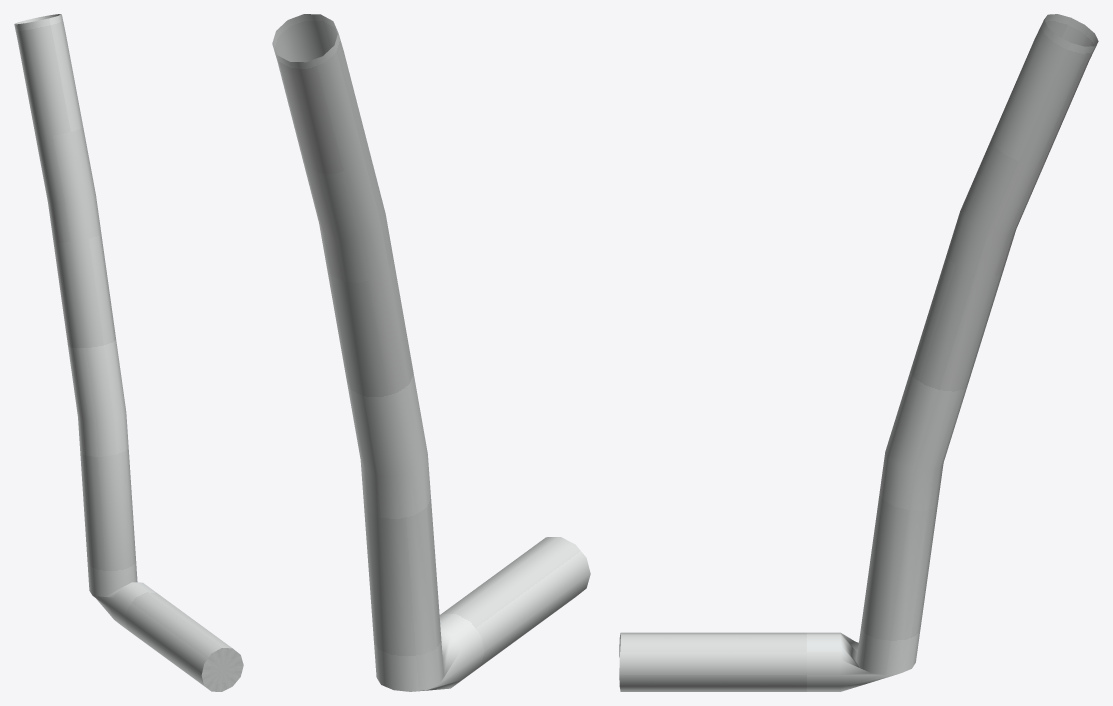
Rendered from luminairearm_laupsweep8ft_c1_thin.obj.
3 views of the same model, side by side, from view 1: azimuth 30°, elevation 25°; view 2: azimuth 150°, elevation 25°; view 3: azimuth 270°, elevation 25° (orthographic). The views are drawn at different scales.
Parts seen in each view (by area): view 1: luminairearm_laupsweep8ft_c1_thin; view 2: luminairearm_laupsweep8ft_c1_thin; view 3: luminairearm_laupsweep8ft_c1_thin.
Boxes of the visible parts, x1,y1,x2,y2 form: luminairearm_laupsweep8ft_c1_thin: [14, 14, 243, 691]; luminairearm_laupsweep8ft_c1_thin: [272, 14, 590, 691]; luminairearm_laupsweep8ft_c1_thin: [619, 14, 1098, 691].
Size of the model in its own units: 0.0562 by 0.6971 by 0.4521.
